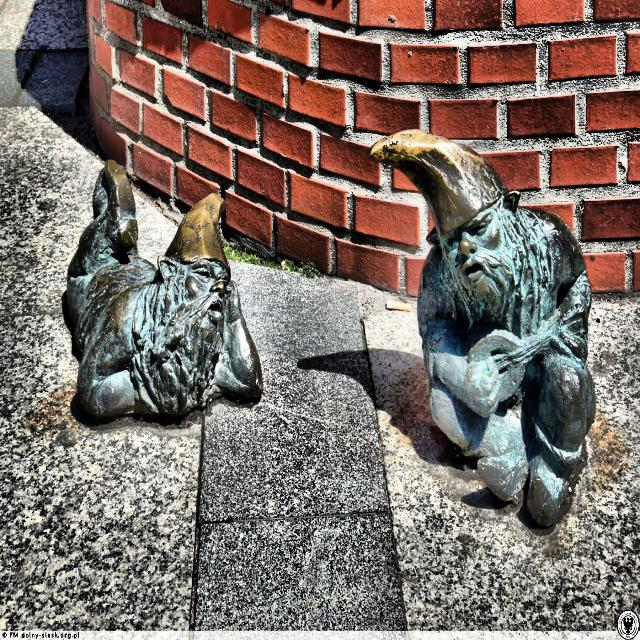Grajek_i_Meloman: (62, 131, 594, 534)
